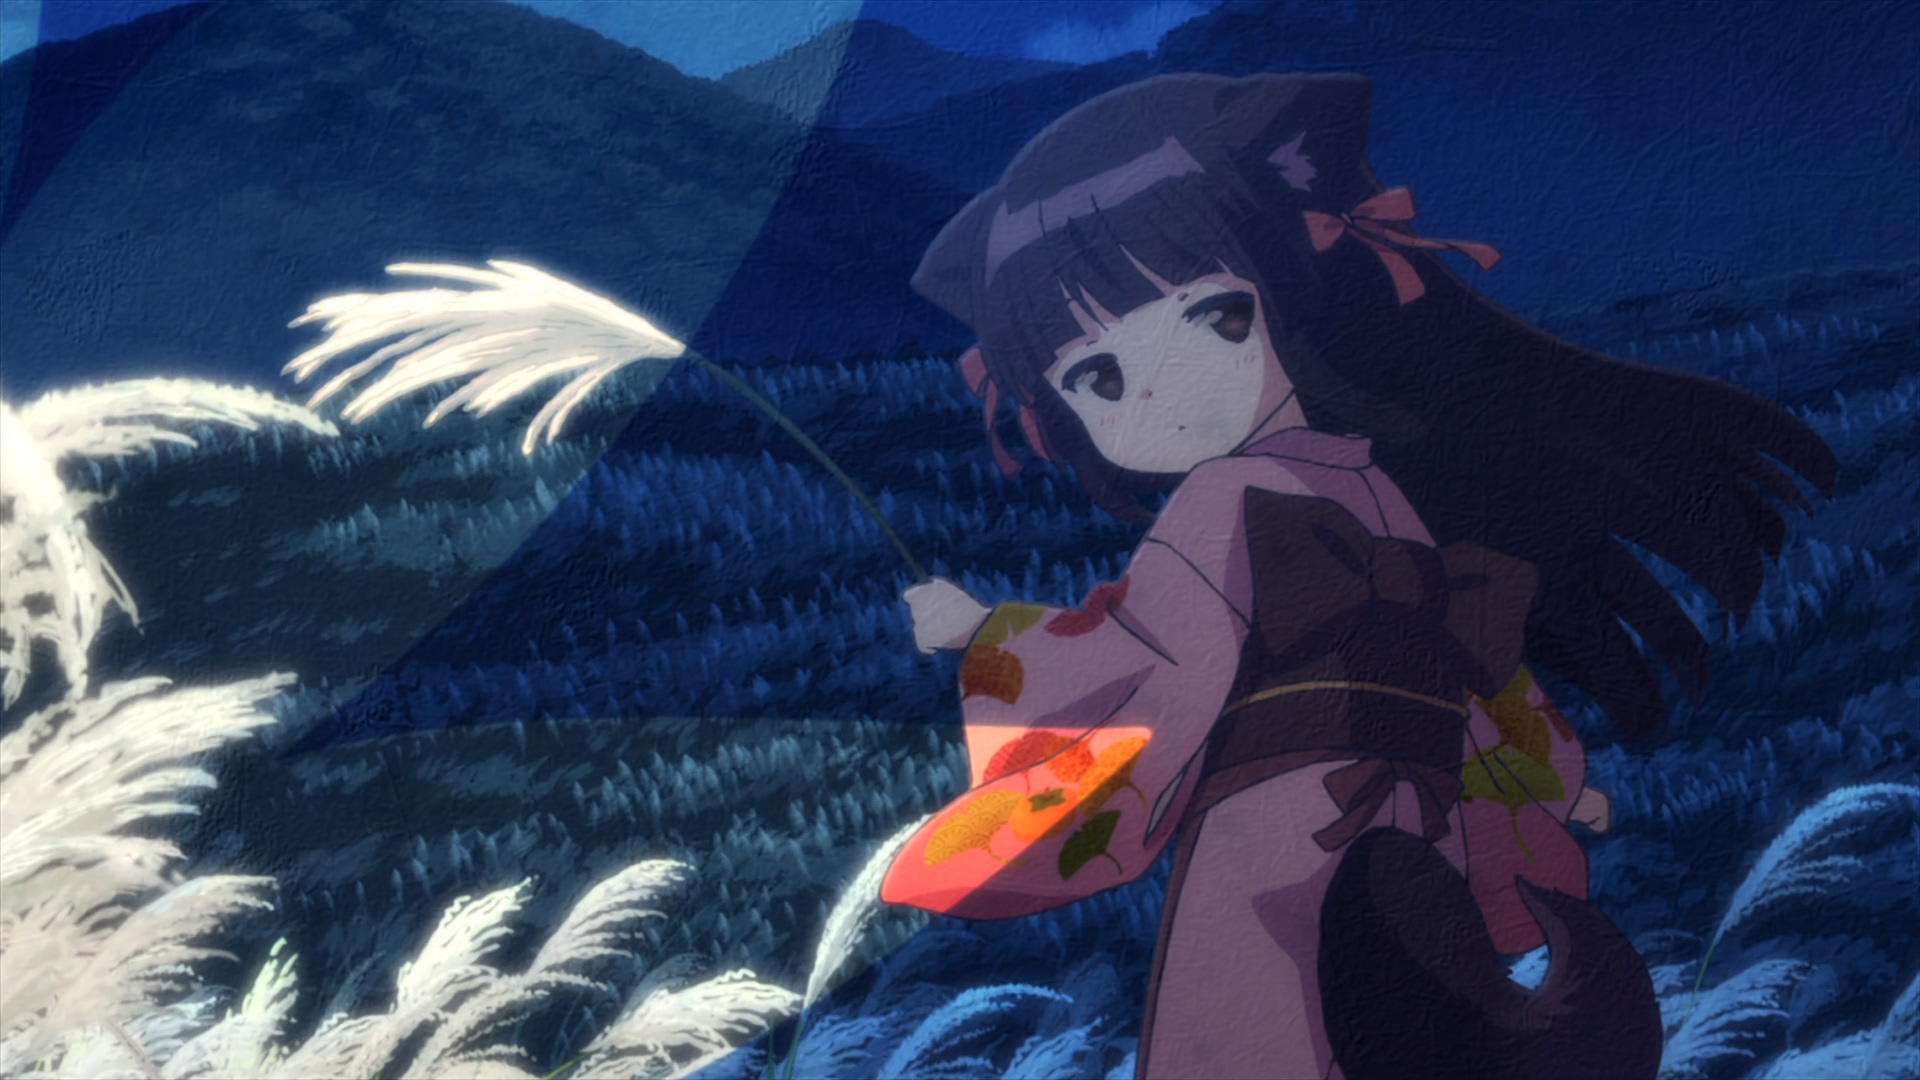樱: (880, 71, 1838, 1080)
